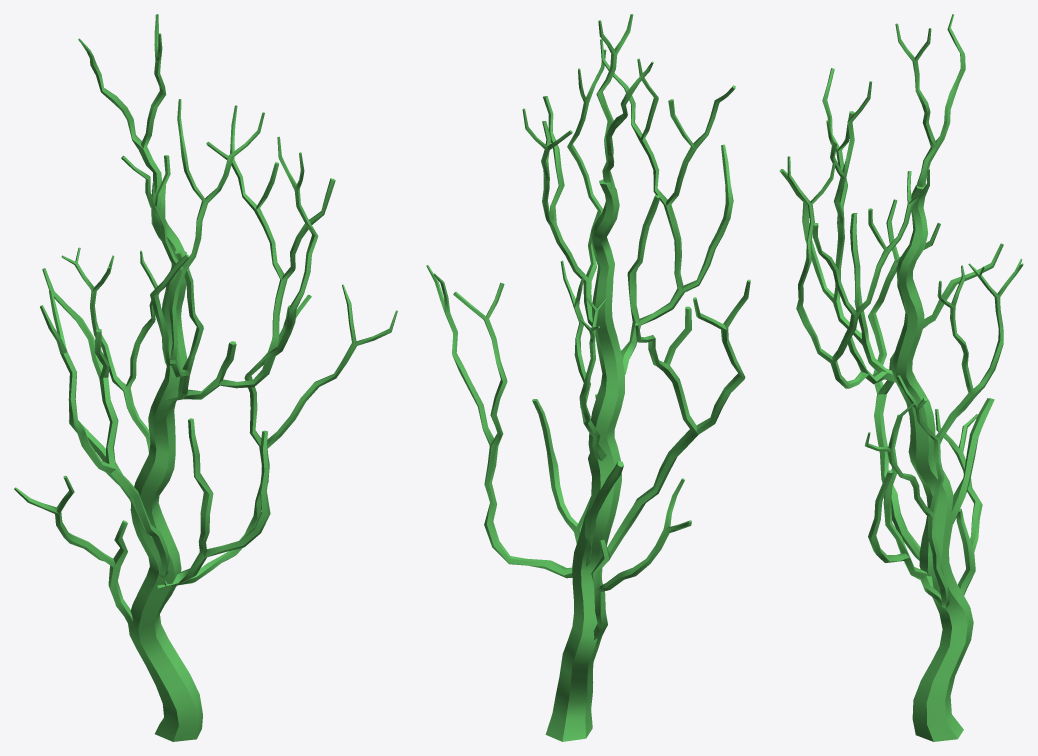
Rendered from jungle_wiggle_tree_D_curved.fbx.
The picture shows the model from 3 angles, left to right: view 1: azimuth 30°, elevation 25°; view 2: azimuth 150°, elevation 25°; view 3: azimuth 270°, elevation 25°; orthographic projection. The views are drawn at different scales.
Visible parts, largest first — view 1: jungle_wiggle_tree_D_curved_trunk, jungle_wiggle_tree_D_curved_branch_A, jungle_wiggle_tree_D_curved_branch_B, jungle_wiggle_tree_D_curved_branch_C, jungle_wiggle_tree_D_curved_branch_D, jungle_wiggle_tree_D_curved_branch_E, jungle_wiggle_tree_D_curved_branch_F; view 2: jungle_wiggle_tree_D_curved_trunk, jungle_wiggle_tree_D_curved_branch_A, jungle_wiggle_tree_D_curved_branch_B, jungle_wiggle_tree_D_curved_branch_C, jungle_wiggle_tree_D_curved_branch_E, jungle_wiggle_tree_D_curved_branch_D, jungle_wiggle_tree_D_curved_branch_F; view 3: jungle_wiggle_tree_D_curved_trunk, jungle_wiggle_tree_D_curved_branch_A, jungle_wiggle_tree_D_curved_branch_C, jungle_wiggle_tree_D_curved_branch_B, jungle_wiggle_tree_D_curved_branch_D, jungle_wiggle_tree_D_curved_branch_F, jungle_wiggle_tree_D_curved_branch_E.
Part boxes in pixels (box(x1,y1,x2,y2)): jungle_wiggle_tree_D_curved_trunk: box(128, 183, 202, 741); jungle_wiggle_tree_D_curved_branch_A: box(121, 99, 335, 401); jungle_wiggle_tree_D_curved_branch_B: box(157, 284, 397, 588); jungle_wiggle_tree_D_curved_branch_C: box(40, 268, 169, 586); jungle_wiggle_tree_D_curved_branch_D: box(61, 247, 186, 452); jungle_wiggle_tree_D_curved_branch_E: box(14, 475, 132, 631); jungle_wiggle_tree_D_curved_branch_F: box(78, 14, 166, 192); jungle_wiggle_tree_D_curved_trunk: box(545, 179, 624, 741); jungle_wiggle_tree_D_curved_branch_A: box(522, 39, 735, 374); jungle_wiggle_tree_D_curved_branch_B: box(426, 265, 597, 578); jungle_wiggle_tree_D_curved_branch_C: box(584, 279, 750, 567); jungle_wiggle_tree_D_curved_branch_E: box(591, 478, 691, 646); jungle_wiggle_tree_D_curved_branch_D: box(560, 260, 607, 460); jungle_wiggle_tree_D_curved_branch_F: box(596, 14, 653, 188); jungle_wiggle_tree_D_curved_trunk: box(891, 183, 973, 741); jungle_wiggle_tree_D_curved_branch_A: box(779, 68, 929, 388); jungle_wiggle_tree_D_curved_branch_C: box(868, 199, 1003, 560); jungle_wiggle_tree_D_curved_branch_B: box(865, 375, 949, 608); jungle_wiggle_tree_D_curved_branch_D: box(933, 258, 1023, 453); jungle_wiggle_tree_D_curved_branch_F: box(895, 14, 965, 186); jungle_wiggle_tree_D_curved_branch_E: box(935, 409, 982, 595).
Size of the model in its own units: 549 by 1109 by 355.
